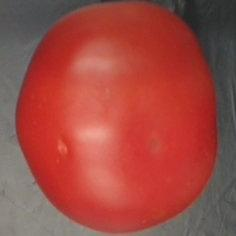unripe: (11, 1, 225, 236)
